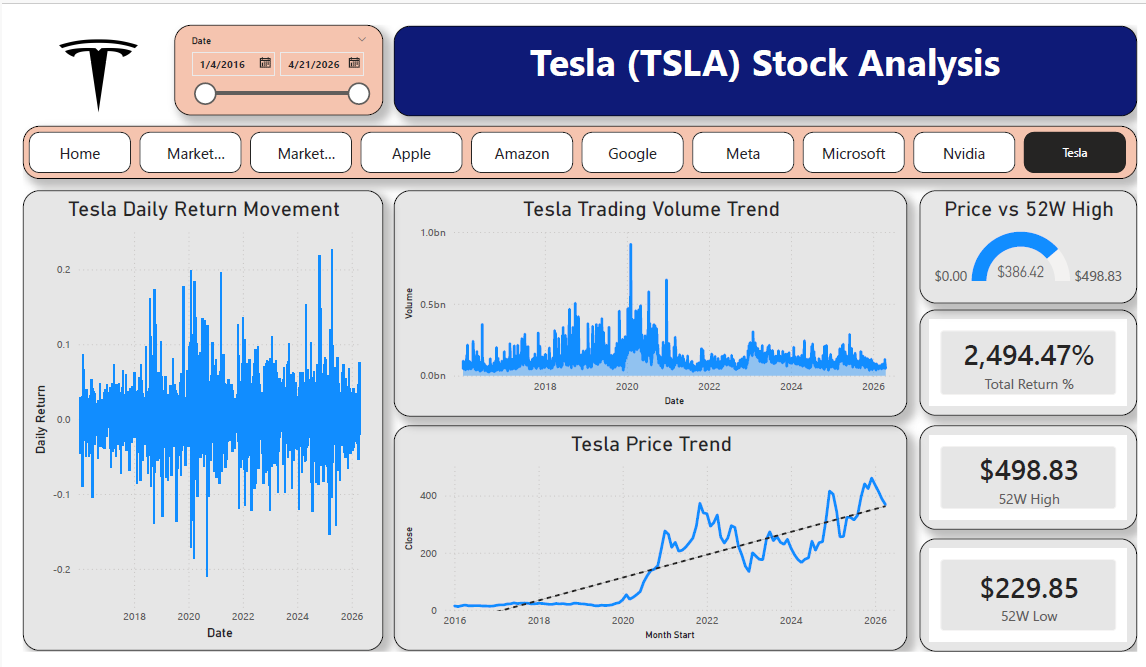

The page's visual inventory and layout, read from the dashboard file:
{"tool":"powerbi","page":{"name":"Tesla","canvas":[1280,720],"ordinal":9},"visuals":[{"type":"image","box":[0,11.2,173.8,93.8],"z":0},{"type":"textbox","box":[426.2,1.2,853.8,103.8],"z":1000},{"type":"slicer","fields":{"Values":["DateTable.Date"]},"box":[173.8,0,240,103.8],"z":2000},{"type":"pageNavigator","box":[0,115.7,1280,61.4],"z":3000},{"type":"cardVisual","fields":{"Data":["mag7_powerbi_ready.Total Return %"]},"box":[1030,327.1,250,121.4],"z":5000},{"type":"cardVisual","fields":{"Data":["mag7_powerbi_ready.52W High"]},"box":[1030,460,250,120],"z":6000},{"type":"cardVisual","fields":{"Data":["mag7_powerbi_ready.52W Low"]},"box":[1030,590,250,130],"z":7000},{"type":"lineChart","title":"Tesla Price Trend  ","fields":{"Y":["Avg(mag7_powerbi_ready.Close)"],"Category":["mag7_powerbi_ready.Month Start"]},"box":[426.2,460,590,258.8],"z":8000},{"type":"areaChart","title":"Tesla Trading Volume Trend","fields":{"Y":["Avg(mag7_powerbi_ready.Volume)"],"Category":["DateTable.Date"]},"box":[425.7,190,590,260],"z":9000},{"type":"clusteredColumnChart","title":"Tesla Daily Return Movement","fields":{"Y":["Avg(mag7_powerbi_ready.Daily_Return)"],"Category":["DateTable.Date"]},"box":[0,190,413.8,528.8],"z":10000},{"type":"gauge","title":"Price vs 52W High","fields":{"MaxValue":["mag7_powerbi_ready.52W High"],"Y":["mag7_powerbi_ready.Latest Close"]},"box":[1029.7,189.6,250.3,130.1],"z":10001}]}

Visuals, with their boxes on the page's 1280x720 design canvas (x1, y1, x2, y2). These are canvas units, not pixel positions in the 1146x667 screenshot, which may show the page scaled, cropped or inside an application window:
image: x1=0 y1=11 x2=174 y2=105
textbox: x1=426 y1=1 x2=1280 y2=105
slicer - DateTable.Date: x1=174 y1=0 x2=414 y2=104
pageNavigator: x1=0 y1=116 x2=1280 y2=177
cardVisual - mag7_powerbi_ready.Total Return %: x1=1030 y1=327 x2=1280 y2=448
cardVisual - mag7_powerbi_ready.52W High: x1=1030 y1=460 x2=1280 y2=580
cardVisual - mag7_powerbi_ready.52W Low: x1=1030 y1=590 x2=1280 y2=720
"Tesla Price Trend  " lineChart: x1=426 y1=460 x2=1016 y2=719
"Tesla Trading Volume Trend" areaChart: x1=426 y1=190 x2=1016 y2=450
"Tesla Daily Return Movement" clusteredColumnChart: x1=0 y1=190 x2=414 y2=719
"Price vs 52W High" gauge: x1=1030 y1=190 x2=1280 y2=320
